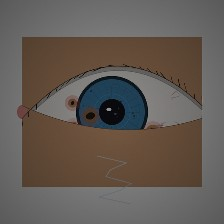foreign_body_visible: (129, 113, 177, 151)
